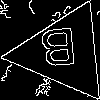B: (38, 27, 80, 76)
